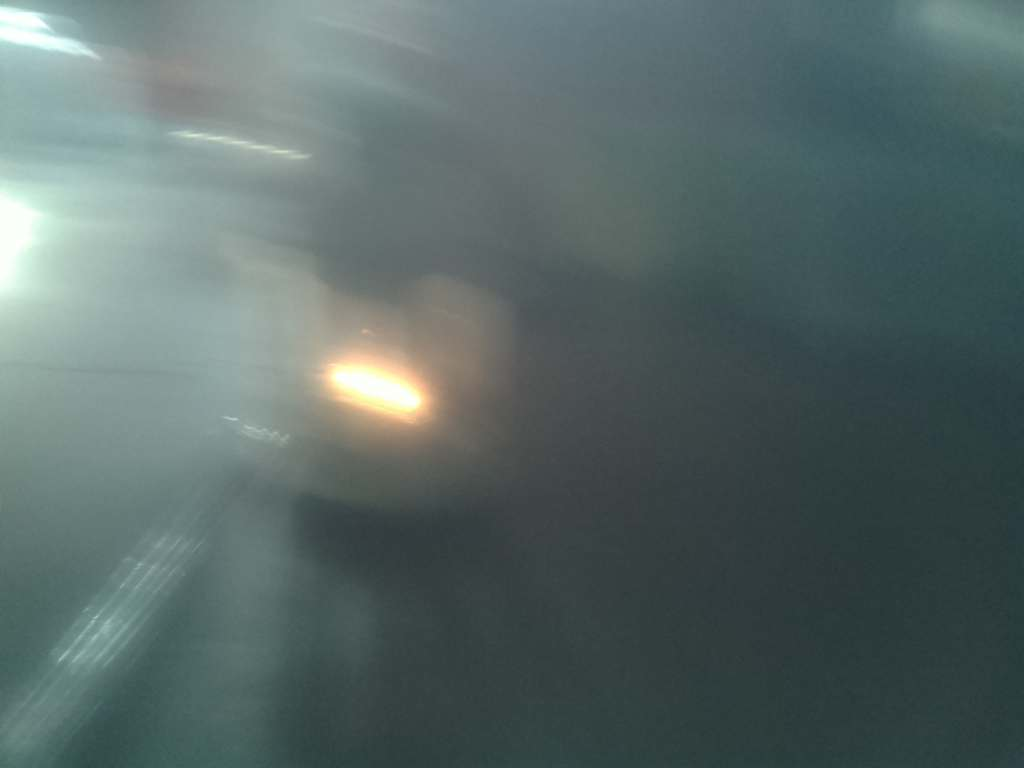fire: (307, 341, 452, 462)
